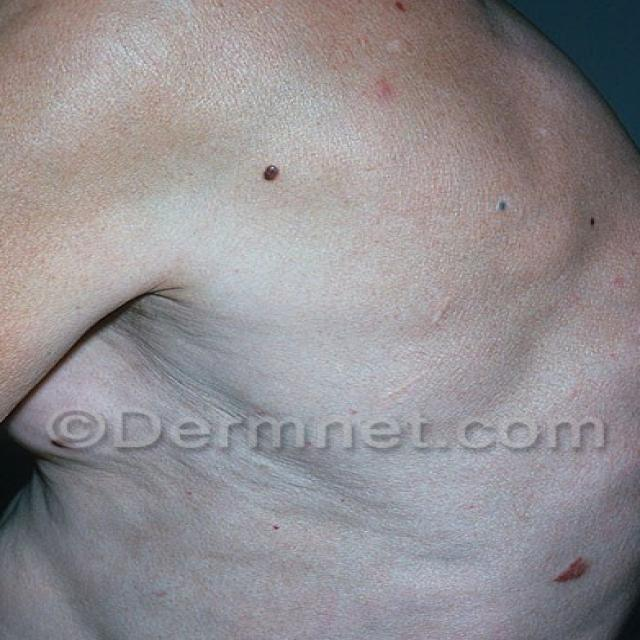Vascular Tumors: (533, 540, 615, 597), (337, 62, 416, 114), (231, 147, 301, 197), (462, 190, 530, 232), (569, 202, 632, 238), (368, 0, 437, 30), (247, 153, 261, 172)
